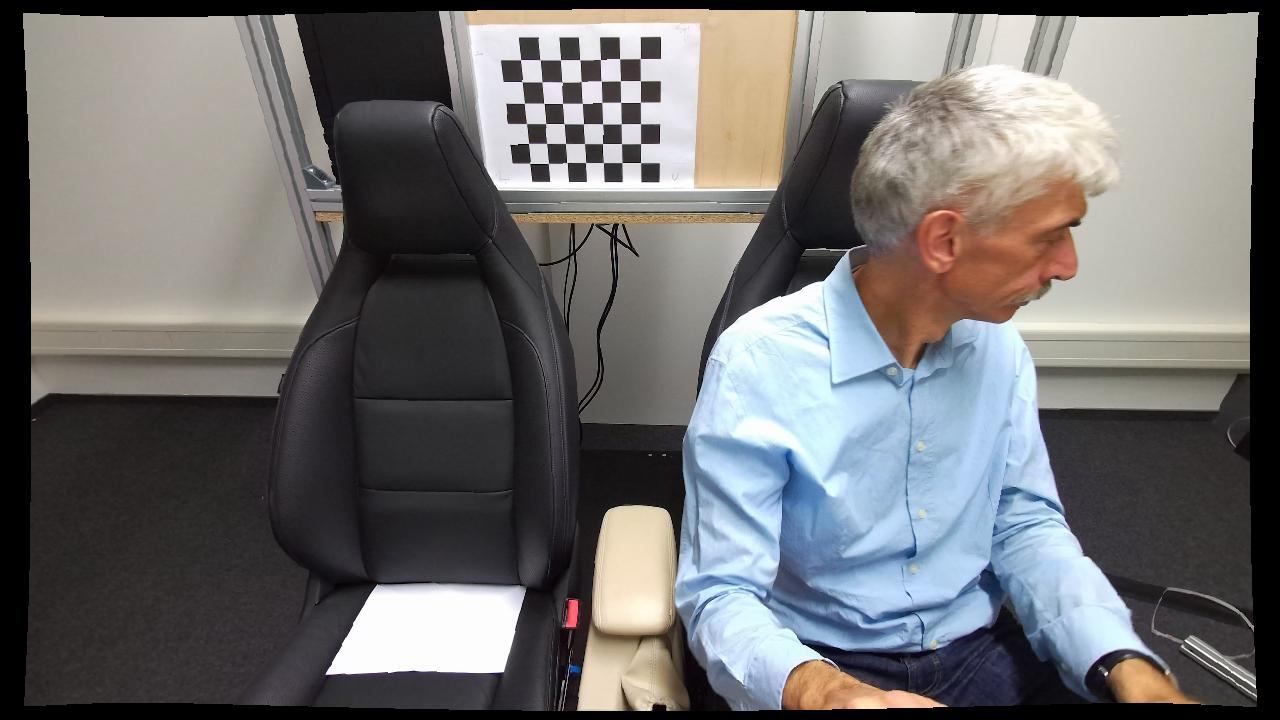Distracted: (672, 59, 1128, 712)
